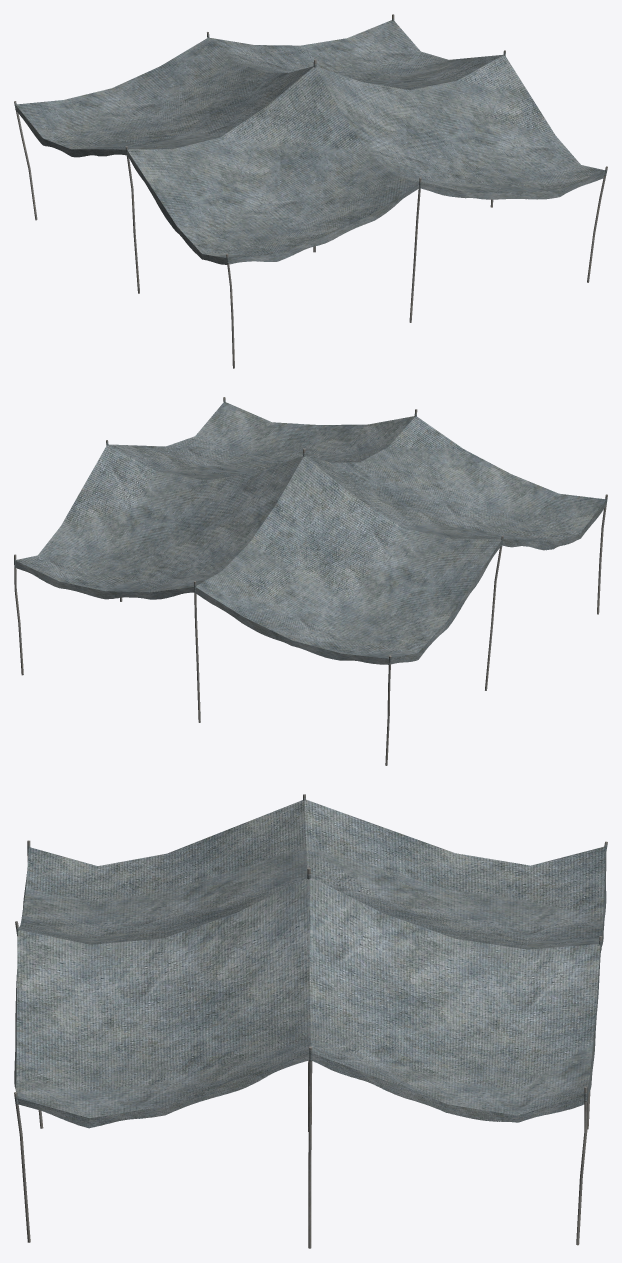
File: poi_all_tent_large_l0.fbx
3 views of the same model, one above another, from view 1: azimuth 30°, elevation 25°; view 2: azimuth 150°, elevation 25°; view 3: azimuth 270°, elevation 25° (orthographic). The views are drawn at different scales.
Parts seen in each view (by area): view 1: mesh_node; view 2: mesh_node; view 3: mesh_node.
Boxes of the visible parts, x1,y1,x2,y2 form: mesh_node: (14, 14, 607, 368); mesh_node: (14, 397, 607, 765); mesh_node: (14, 794, 607, 1248).
Bounding box in the file's own units: 10.9 × 5.21 × 10.65.
